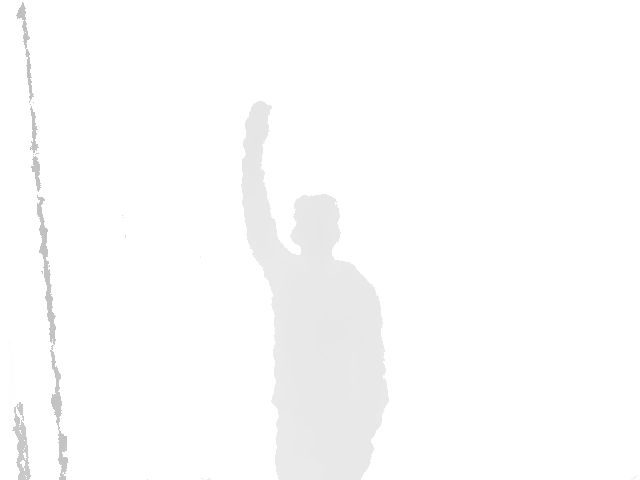hand: (242, 101, 272, 157)
head: (290, 193, 342, 255)
person: (242, 100, 391, 480)
